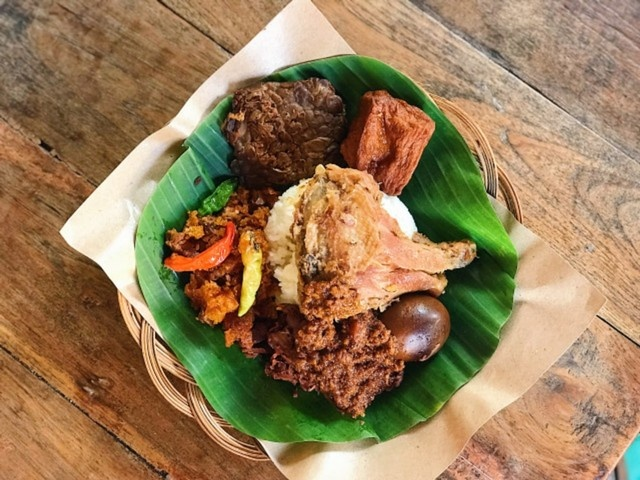gudeg: (187, 88, 449, 400)
